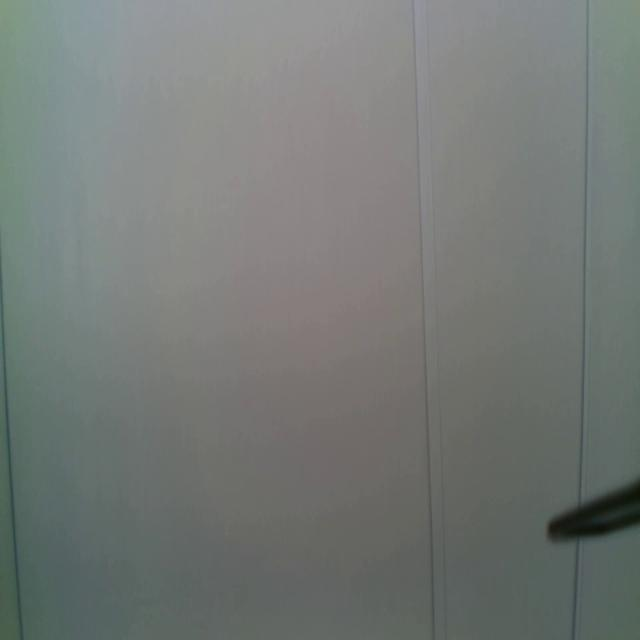crease: (412, 0, 448, 640), (0, 250, 25, 639), (577, 0, 591, 501), (570, 540, 586, 640)
